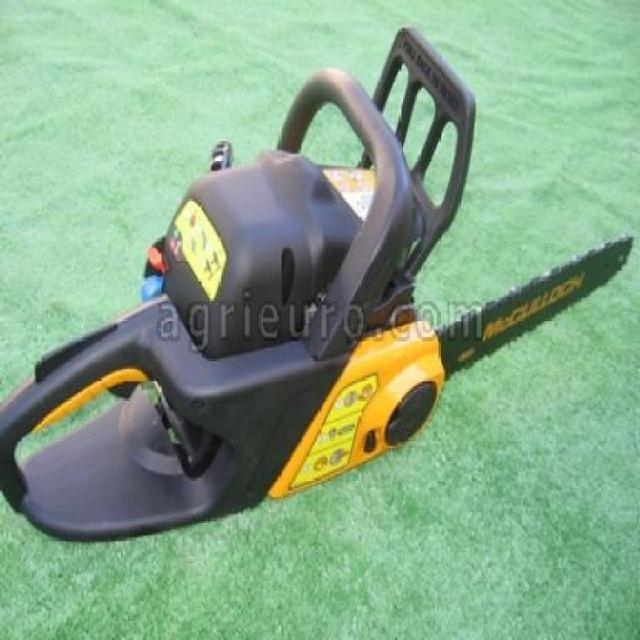Chainsaw: (0, 24, 632, 541)
